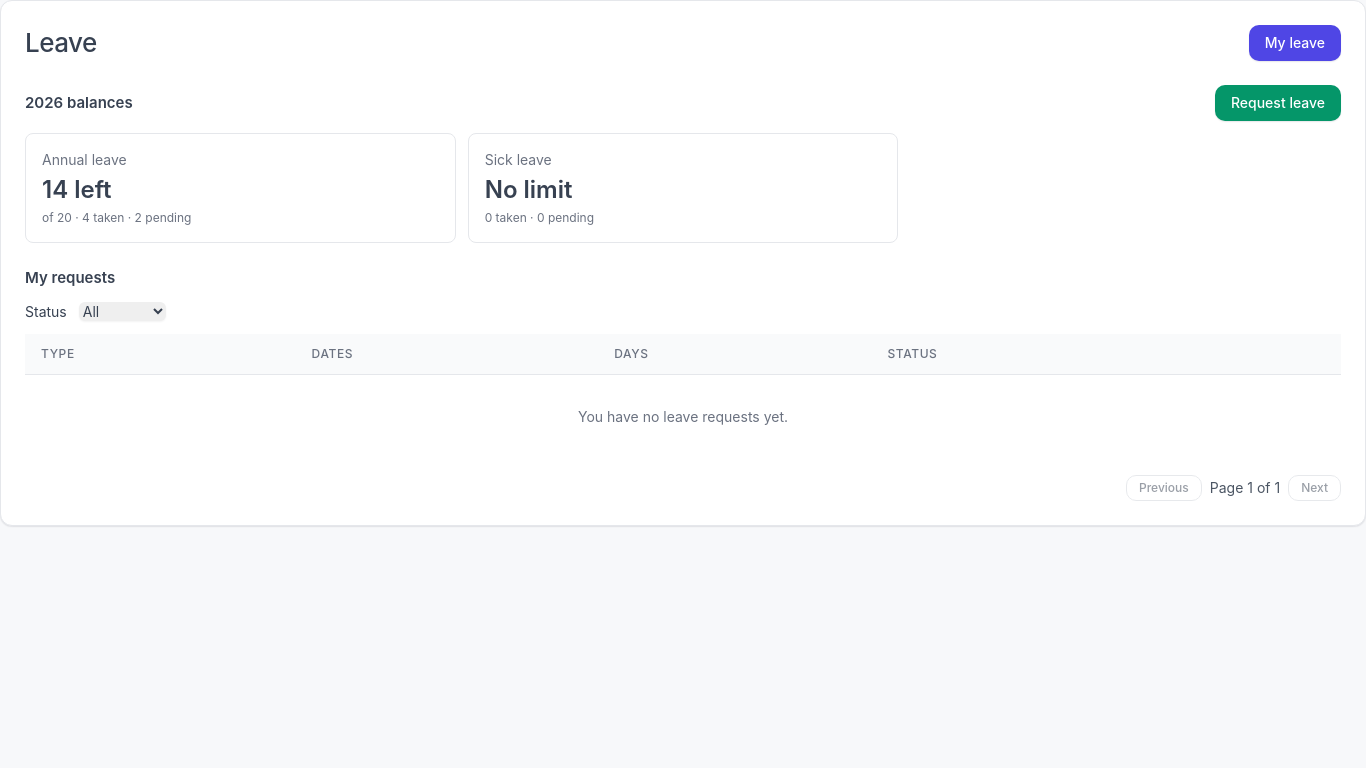
Test case: Leave page › requesting leave › submits, reports the server-computed days, and refreshes the list
Click the button "Request leave" at (1278, 103), box [1215,85,1341,121]
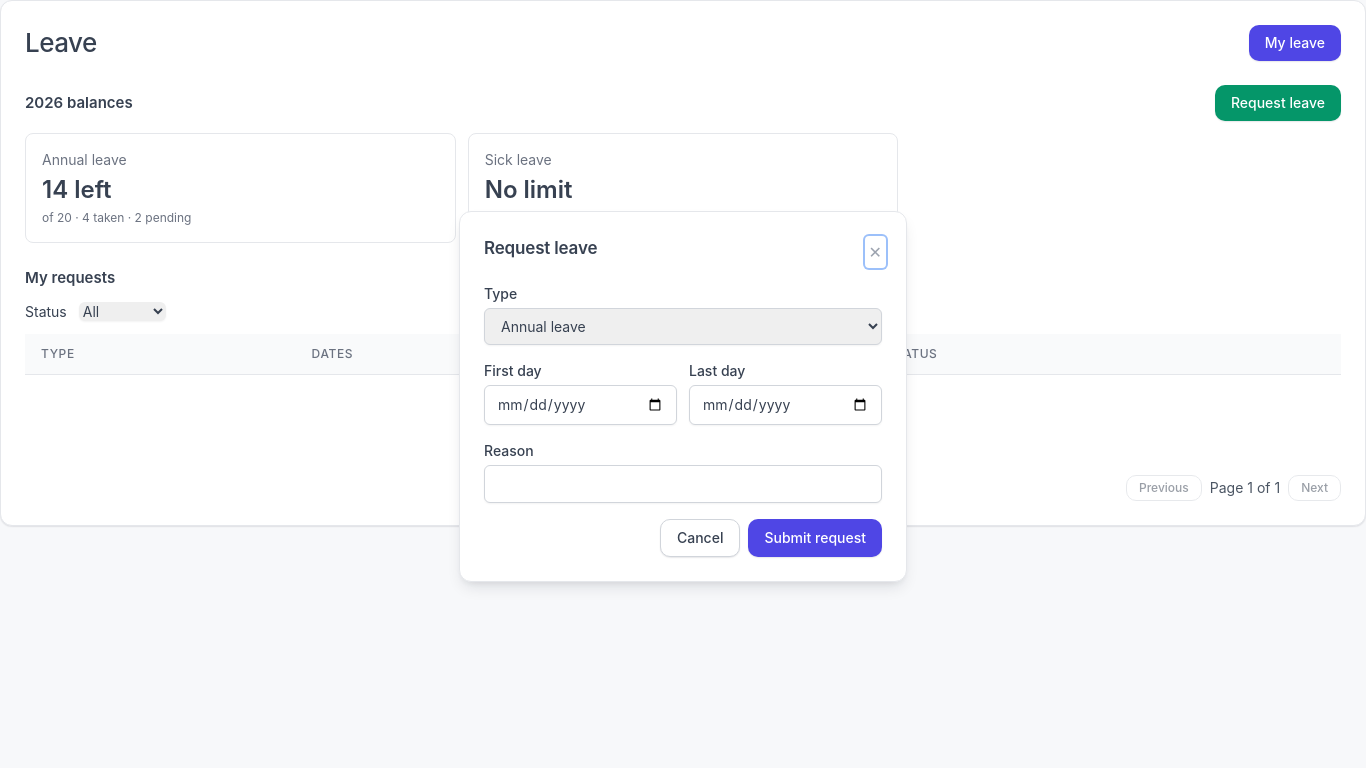
Type "2099-03-02" into the date field labelled "First day" at (580, 404), box [484,384,677,424]
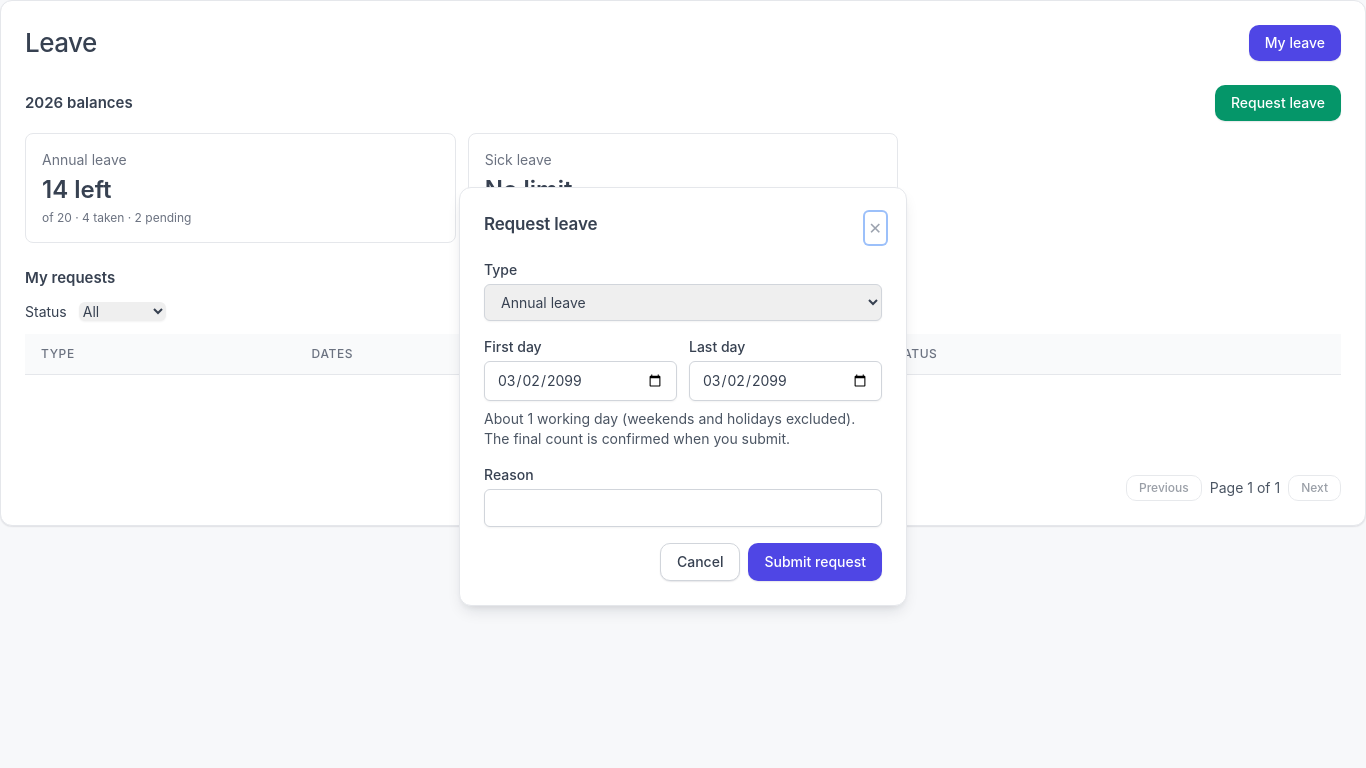
Type "2099-03-04" into the date field labelled "Last day" at (786, 380), box [689,360,882,400]
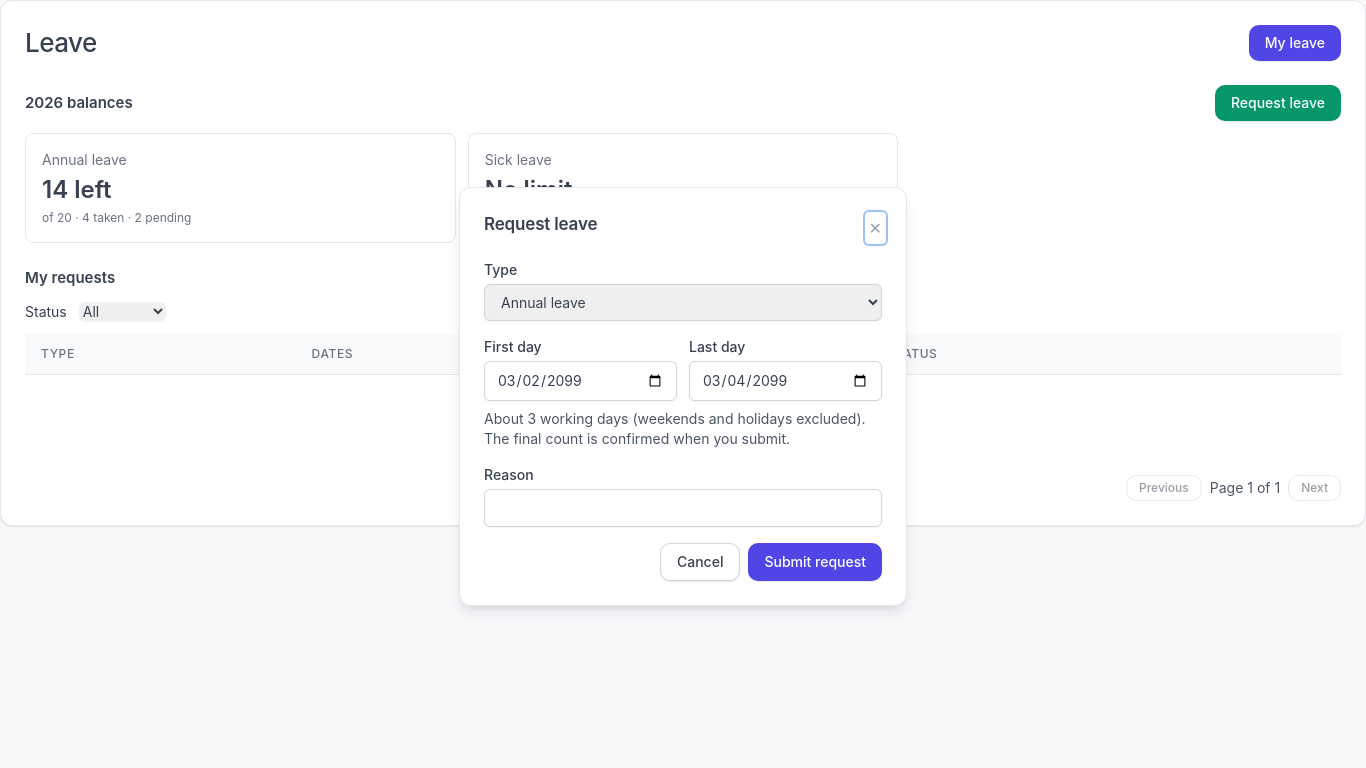
Type "Family visit" into the field labelled "Reason" at (683, 508), box [484,488,882,526]
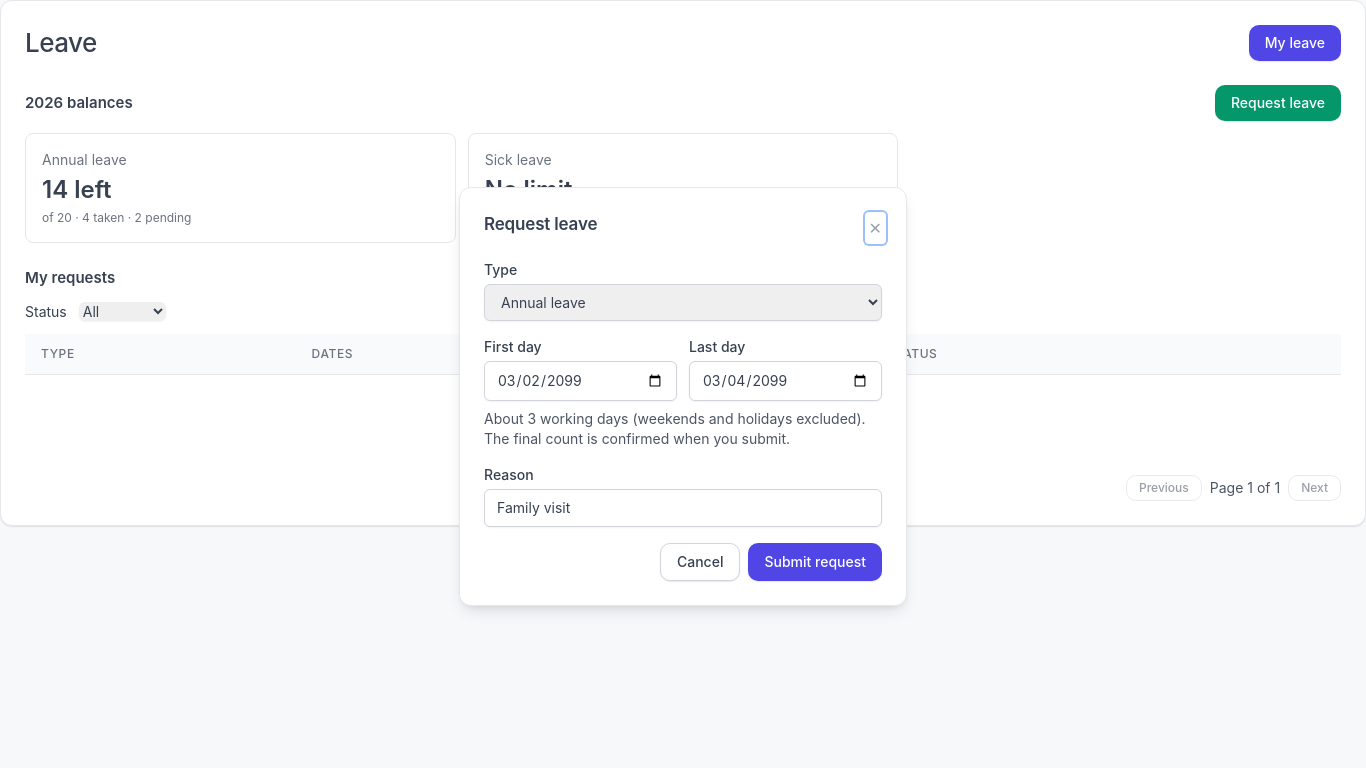
Click the button "Submit request" at (815, 562), box [748,542,882,580]
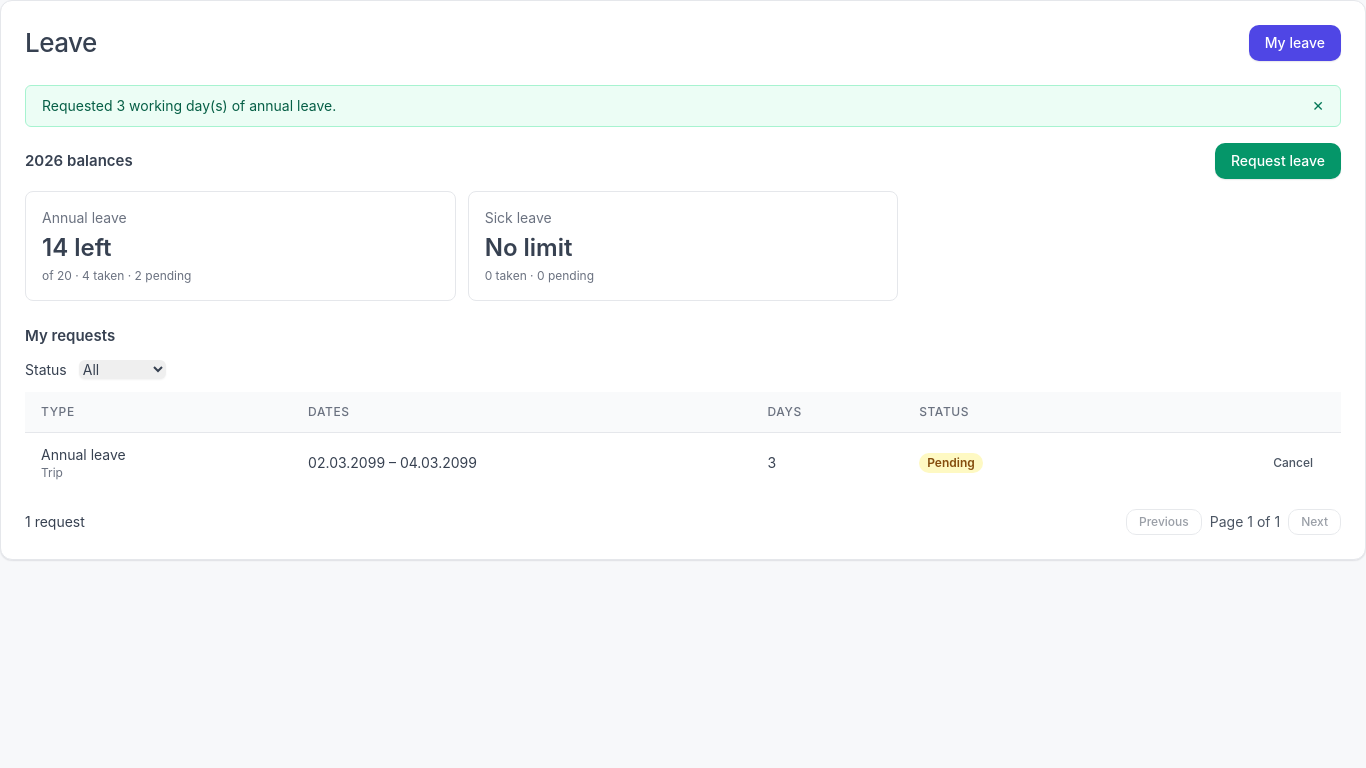
Check: the dialog is gone
Check: the message shows "Requested 3 working day(s)", box [42,97,336,114]
